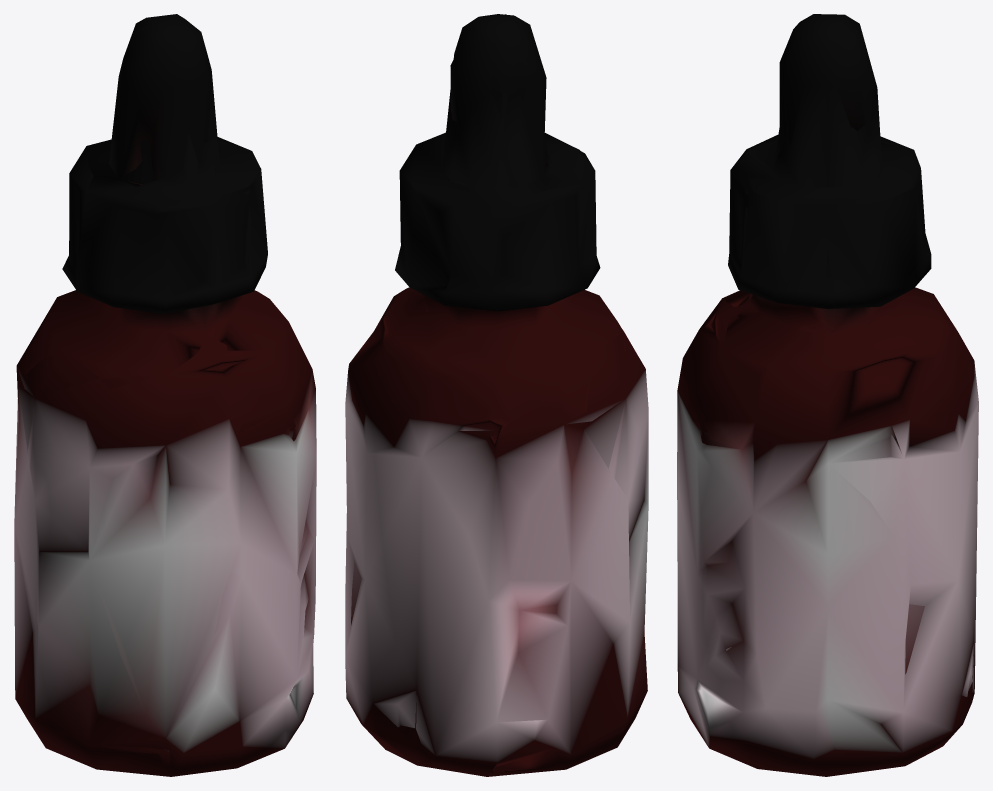
File: gen3d-medicine-bottle-lod1.glb
The picture shows the model from 3 angles, left to right: view 1: azimuth 30°, elevation 25°; view 2: azimuth 150°, elevation 25°; view 3: azimuth 270°, elevation 25°; orthographic projection.
Visible parts, largest first — view 1: part_0; view 2: part_0; view 3: part_0.
Part boxes in pixels (x1,y1,x2,y2): part_0: (14, 14, 316, 776); part_0: (345, 14, 648, 776); part_0: (677, 14, 978, 776).
Bounding box in the file's own units: 0.3887 × 0.9976 × 0.3889.
